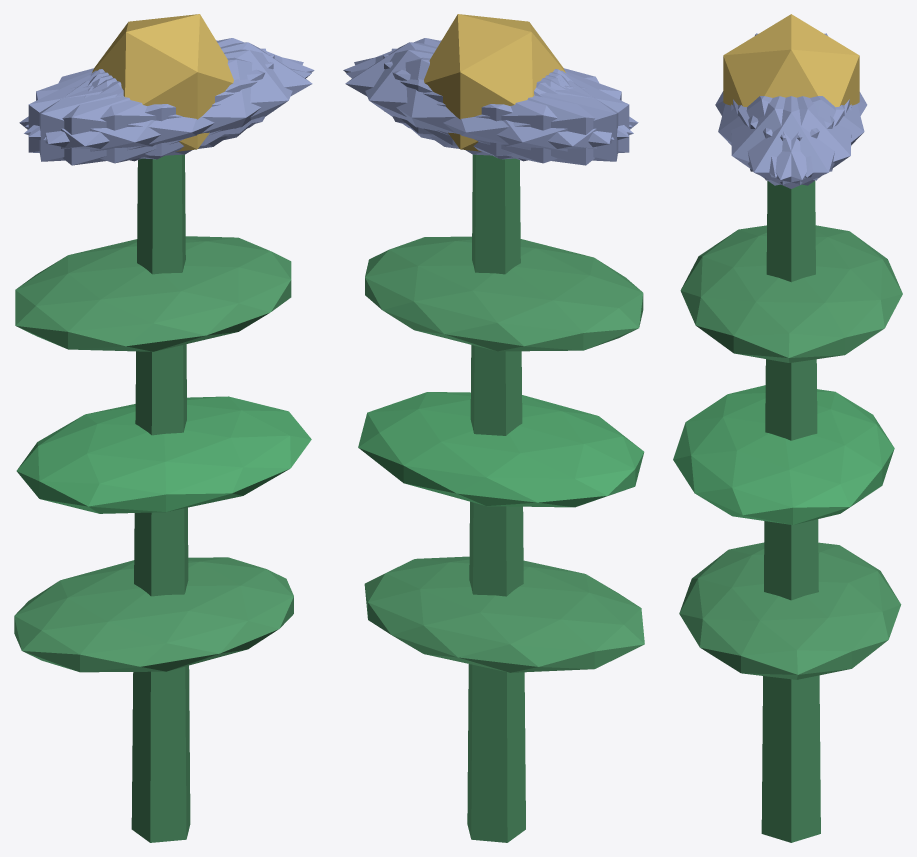
The model's file is albizia-julibrissin.glb.
3 views of the same model, side by side, from view 1: azimuth 30°, elevation 25°; view 2: azimuth 150°, elevation 25°; view 3: azimuth 270°, elevation 25° (orthographic).
Visible parts, largest first — view 1: stem, leaf1, leaf2, leaf0, center, petal1, petal6, petal2, petal5, petal7, petal0, petal4 (+2 smaller); view 2: stem, leaf2, leaf0, leaf1, center, petal8, petal3, petal7, petal4, petal2, petal0, petal5 (+2 smaller); view 3: stem, leaf2, leaf1, leaf0, center, petal0, petal5, petal4, petal1, petal8.
Boxes of the visible parts, left/top/right/bottom form: stem: left=131, top=154, right=190, bottom=842; leaf1: left=16, top=396, right=311, bottom=513; leaf2: left=15, top=236, right=291, bottom=351; leaf0: left=14, top=557, right=293, bottom=672; center: left=92, top=14, right=233, bottom=151; petal1: left=24, top=57, right=311, bottom=163; petal6: left=19, top=70, right=227, bottom=165; petal2: left=39, top=48, right=266, bottom=161; petal5: left=43, top=49, right=303, bottom=156; petal7: left=28, top=54, right=274, bottom=159; petal0: left=91, top=42, right=312, bottom=145; petal4: left=25, top=38, right=314, bottom=137; stem: left=467, top=154, right=525, bottom=842; leaf2: left=365, top=236, right=643, bottom=351; leaf0: left=364, top=556, right=644, bottom=672; leaf1: left=358, top=392, right=644, bottom=507; center: left=424, top=14, right=565, bottom=151; petal8: left=346, top=57, right=633, bottom=163; petal3: left=430, top=70, right=638, bottom=165; petal7: left=391, top=48, right=618, bottom=161; petal4: left=354, top=49, right=614, bottom=156; petal2: left=383, top=54, right=629, bottom=159; petal0: left=345, top=42, right=565, bottom=145; petal5: left=343, top=38, right=632, bottom=137; stem: left=761, top=181, right=820, bottom=842; leaf2: left=680, top=225, right=902, bottom=362; leaf1: left=673, top=385, right=894, bottom=524; leaf0: left=679, top=542, right=901, bottom=679; center: left=723, top=14, right=859, bottom=107; petal0: left=733, top=96, right=849, bottom=188; petal5: left=731, top=96, right=844, bottom=185; petal4: left=738, top=96, right=851, bottom=185; petal1: left=718, top=96, right=834, bottom=177; petal8: left=748, top=96, right=864, bottom=177.
Bounding box in the file's own units: 0.1498 × 0.3956 × 0.1033.
